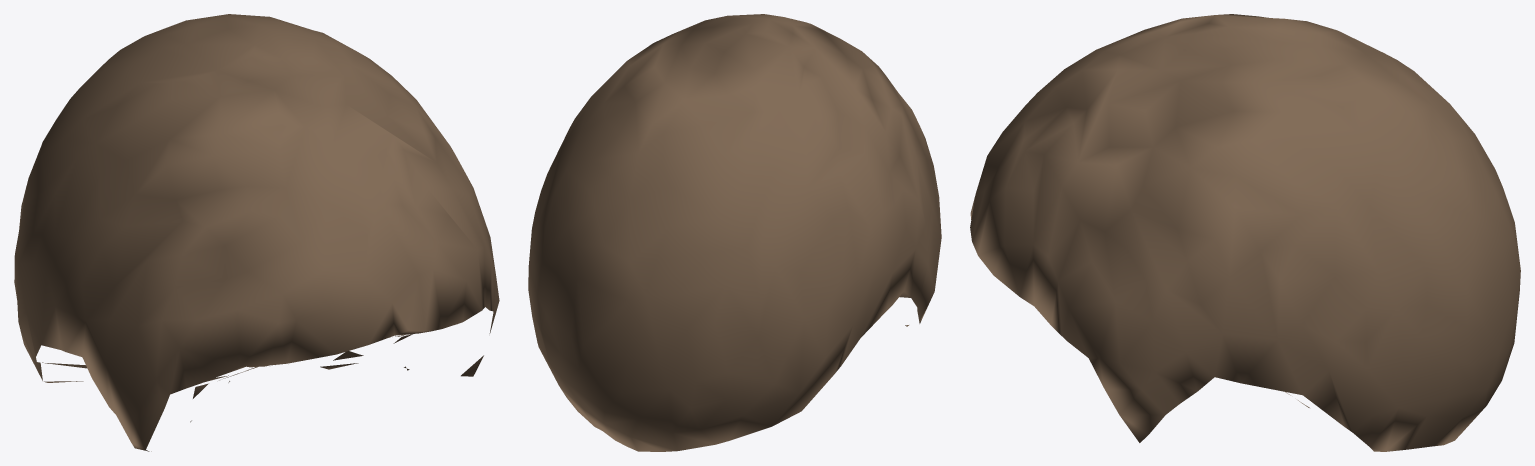
Rendered from hair32-male-buzz-a3.glb.
The picture shows the model from 3 angles, left to right: view 1: azimuth 30°, elevation 25°; view 2: azimuth 150°, elevation 25°; view 3: azimuth 270°, elevation 25°; orthographic projection. The views are drawn at different scales.
Visible parts, largest first — view 1: hair32-buzz; view 2: hair32-buzz; view 3: hair32-buzz.
Part boxes in pixels (box(x1,y1,x2,y2)): hair32-buzz: box(14, 14, 499, 451); hair32-buzz: box(528, 14, 941, 451); hair32-buzz: box(970, 14, 1520, 451).
Bounding box in the file's own units: 0.159 × 0.1601 × 0.2003.
